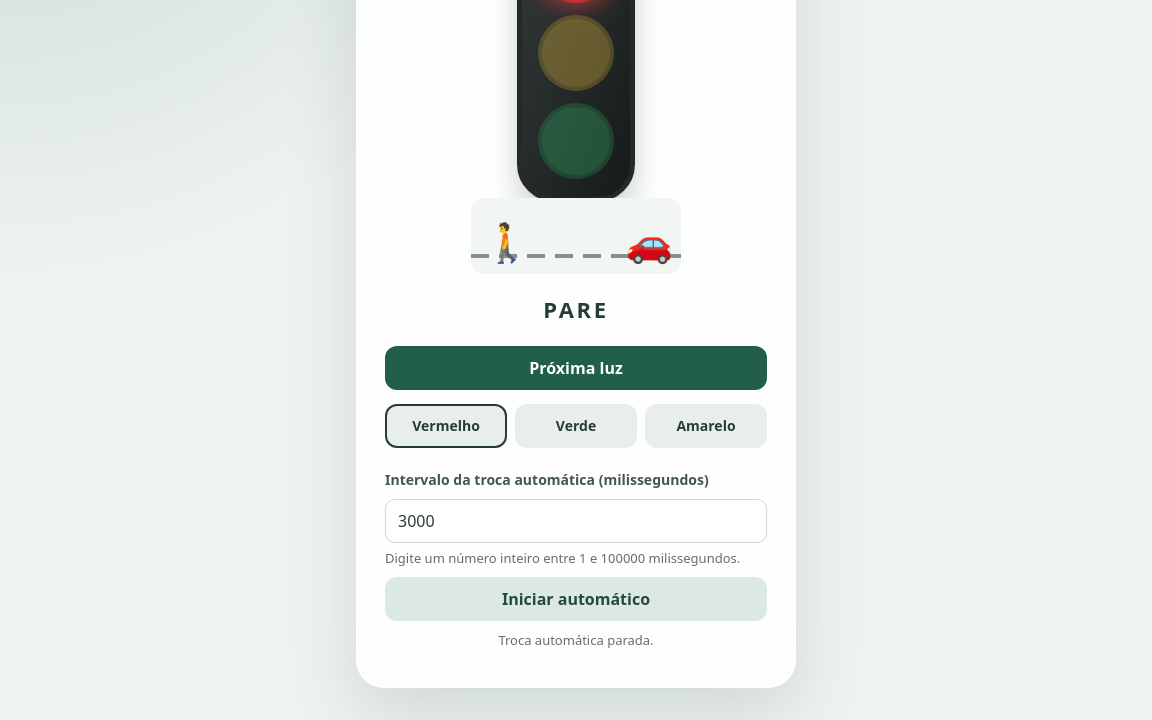
Scenario: stops advancing after automatic mode is stopped
(page scrolled)
Replace the text in the number field labelled "Intervalo da troca automática (milissegundos)" with "1000" at (576, 521), box [385,499,767,543]
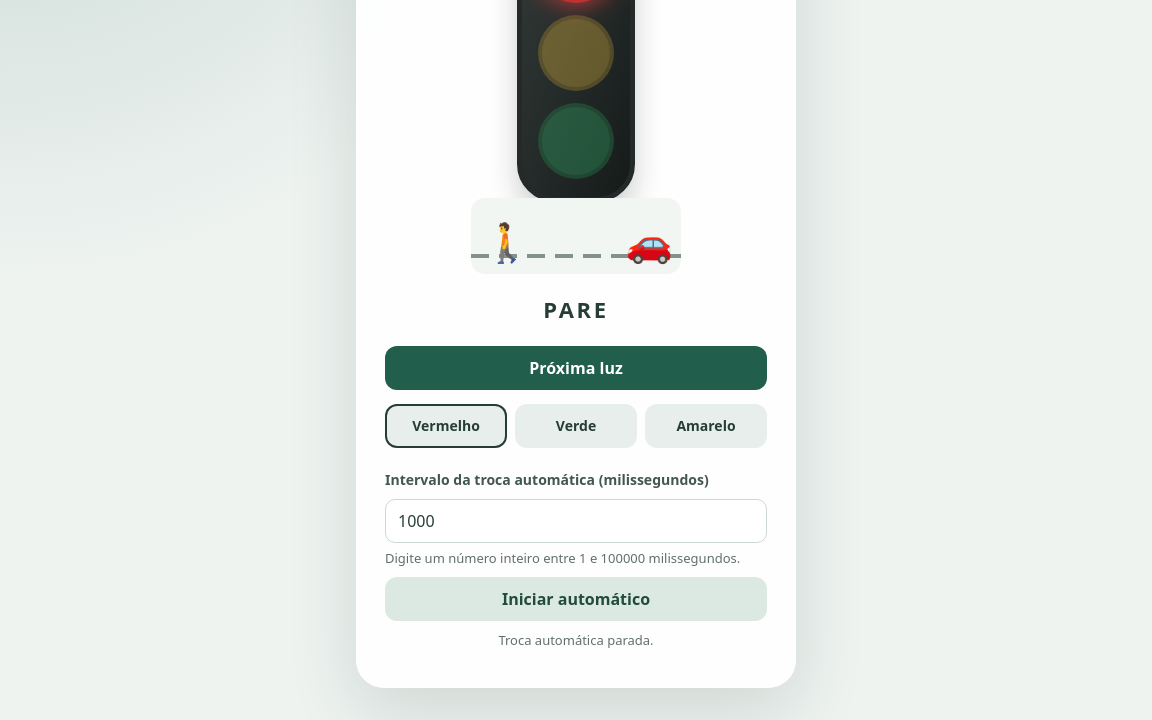
Click the button "Iniciar automático".
click(576, 599)  # box [385,577,767,621]
Wait 1000 ms
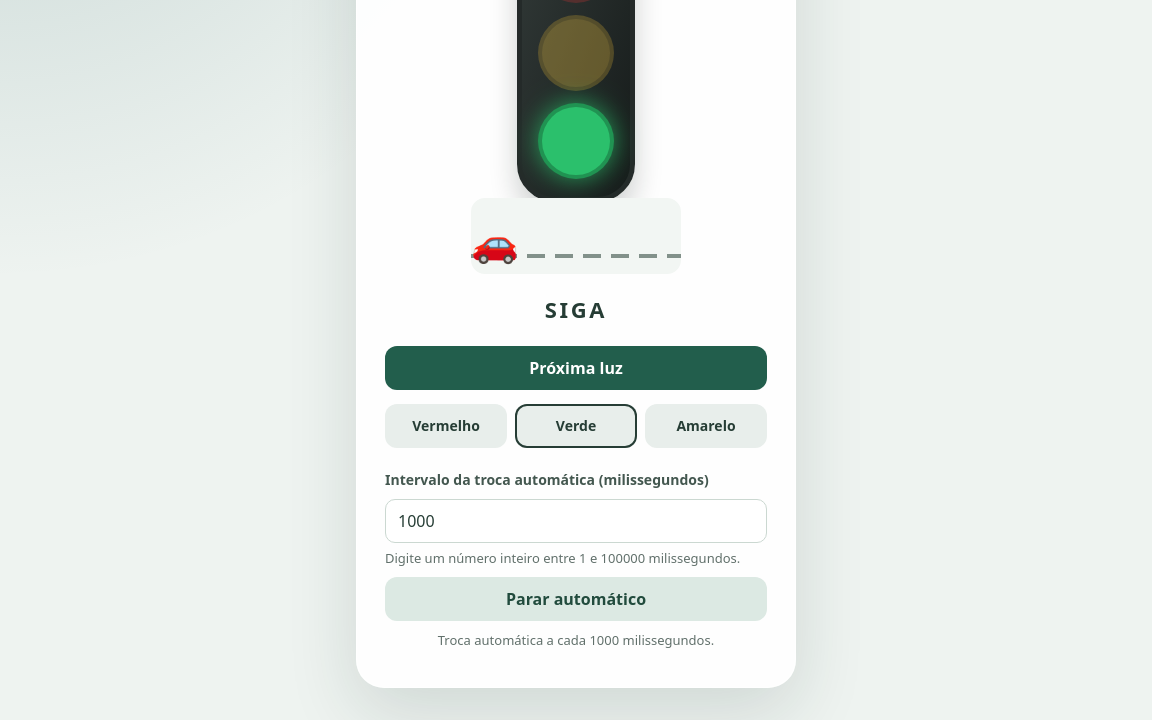
Click the button "Parar automático".
click(576, 599)  # box [385,577,767,621]
Wait 5000 ms
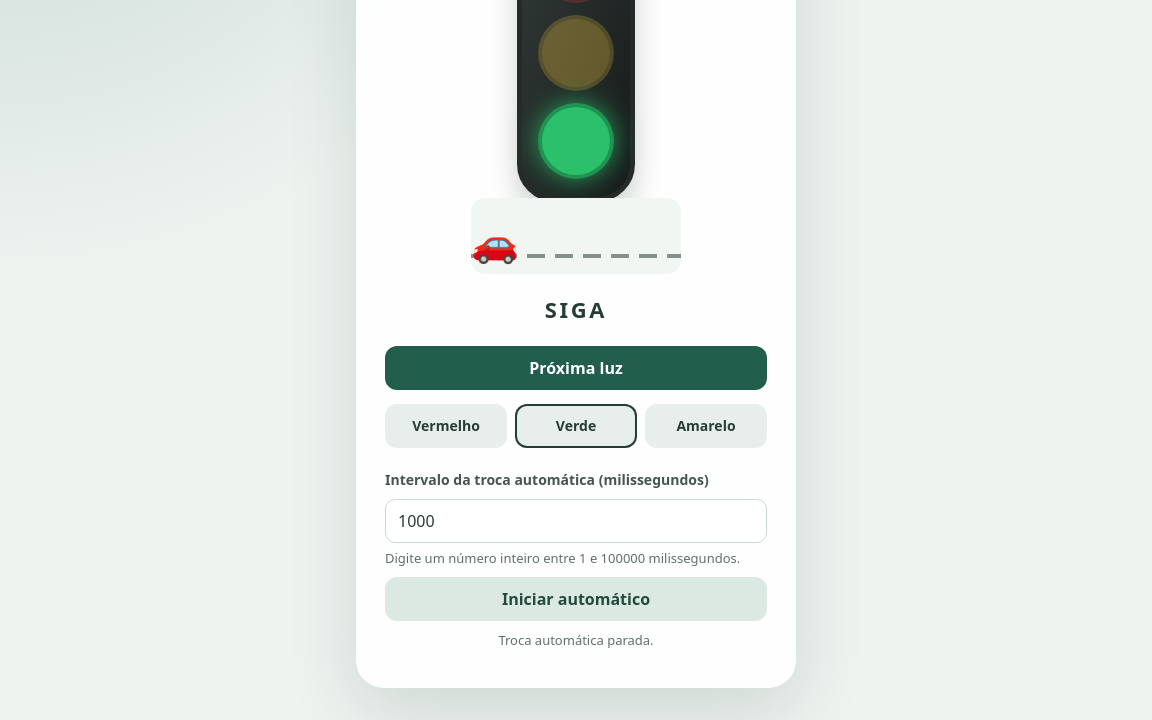
Expected: the text "Troca automática parada." is shown, [498,631,654,649]
